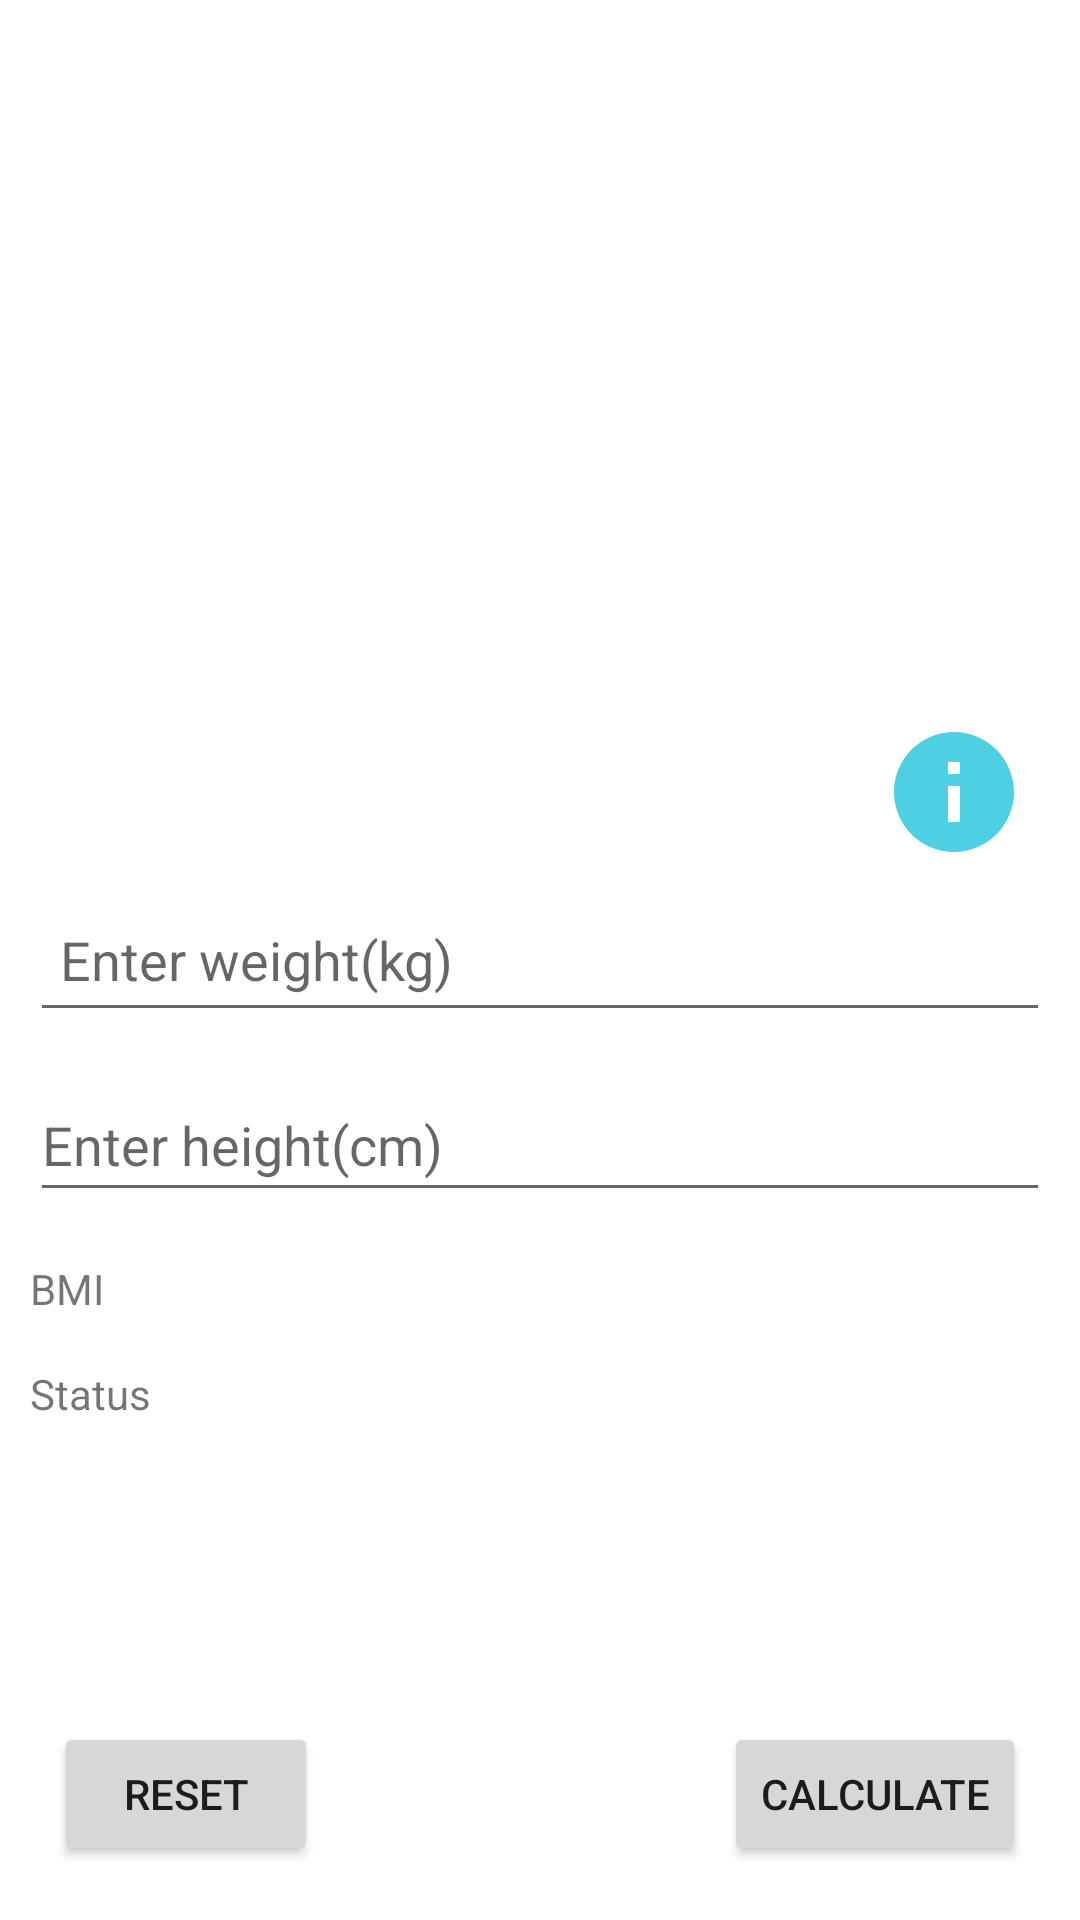

Where to tap for icons on this 1080 × 1920 app screen, as point (x, y):
info: point (954, 792)
